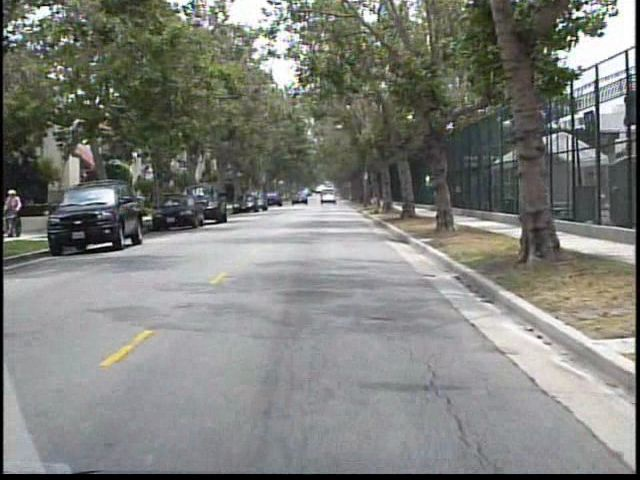person: (7, 186, 26, 239)
